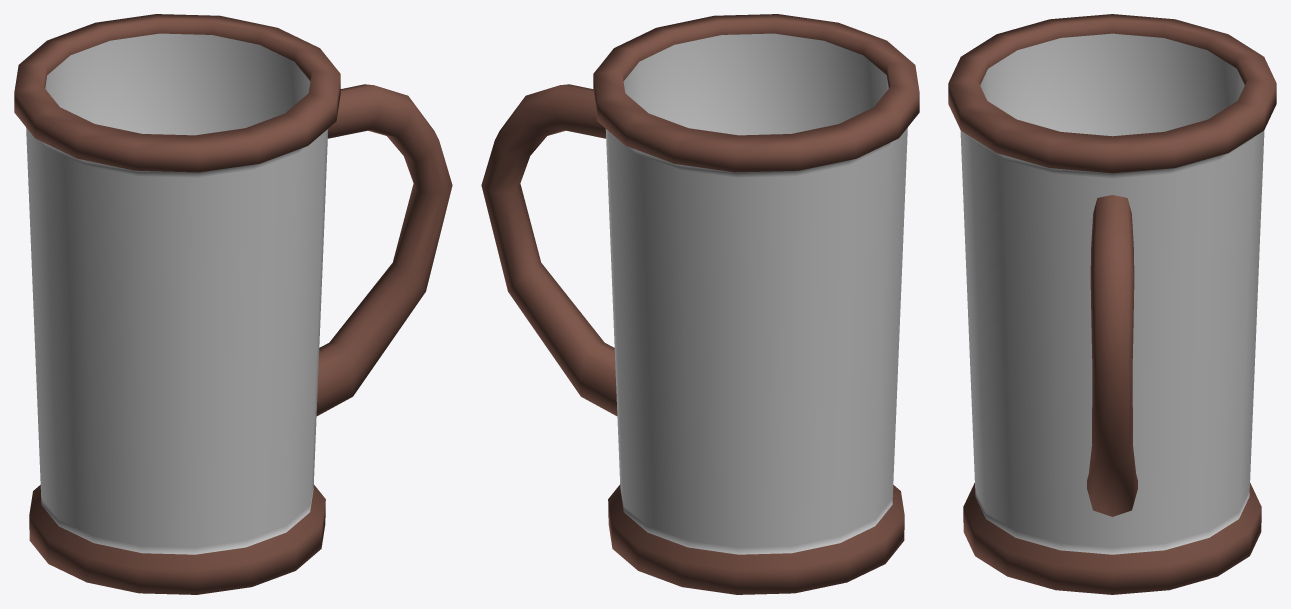
Rendered from PintMug.fbx.
3 renders of one model, left to right at view 1: azimuth 30°, elevation 25°; view 2: azimuth 150°, elevation 25°; view 3: azimuth 270°, elevation 25°, orthographic.
Parts seen in each view (by area): view 1: Mug; view 2: Mug; view 3: Mug.
Part boxes in pixels (<box>): Mug: <box>14,14,452,594</box>; Mug: <box>481,14,919,594</box>; Mug: <box>948,14,1276,594</box>.
Size of the model in its own units: 30.7 by 32.21 by 21.16.
